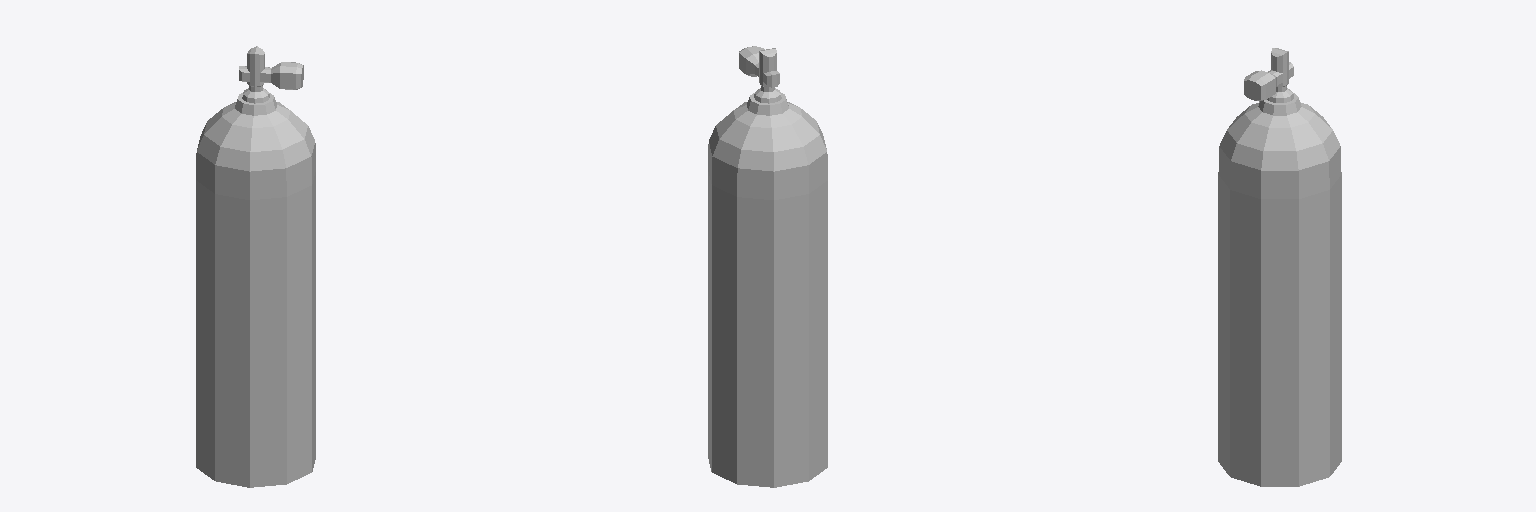
The model's file is Tank1.obj.
3 renders of one model, left to right at view 1: azimuth 30°, elevation 25°; view 2: azimuth 150°, elevation 25°; view 3: azimuth 270°, elevation 25°, orthographic.
Parts seen in each view (by area): view 1: Tank1; view 2: Tank1; view 3: Tank1.
Part boxes in pixels (x1,y1,x2,y2): Tank1: (196, 46, 315, 487); Tank1: (708, 46, 827, 487); Tank1: (1218, 48, 1341, 486).
Size of the model in its own units: 39.54 by 153 by 41.56.